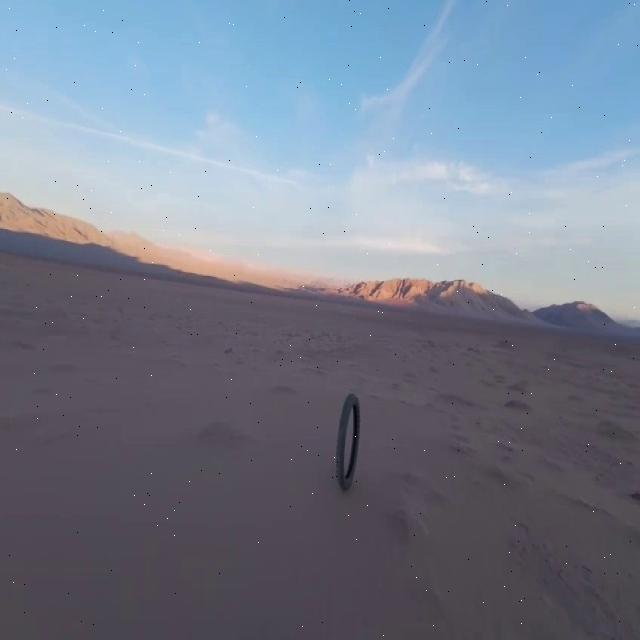Tire: (337, 394, 360, 490)
